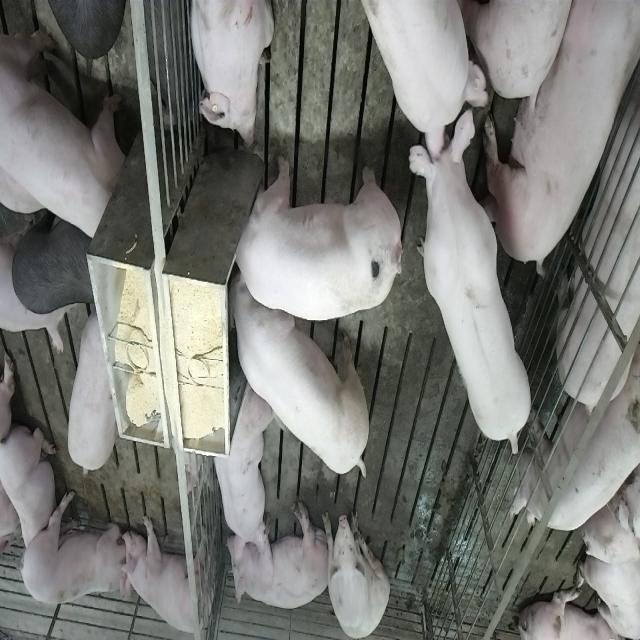Feeding: (228, 273, 376, 480), (224, 154, 398, 322)
Lateral_lying: (482, 0, 637, 273), (224, 499, 332, 612)
Sitting: (326, 502, 390, 636)
Standing: (410, 103, 536, 454), (552, 24, 640, 418), (2, 20, 124, 246), (516, 350, 640, 536), (357, 0, 494, 154), (20, 489, 130, 609), (121, 508, 209, 636), (62, 309, 116, 479), (12, 212, 94, 316)
Sternal_lying: (187, 0, 275, 150), (208, 377, 272, 555), (2, 426, 58, 562)
